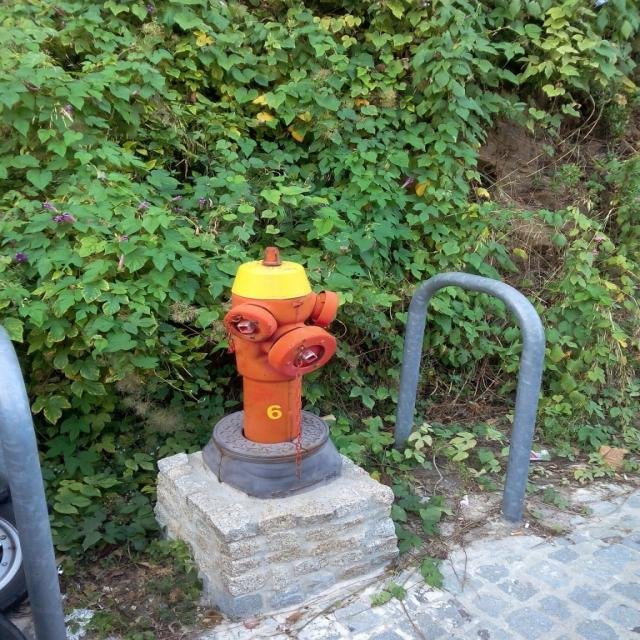fire_hydrant: (208, 246, 338, 465)
